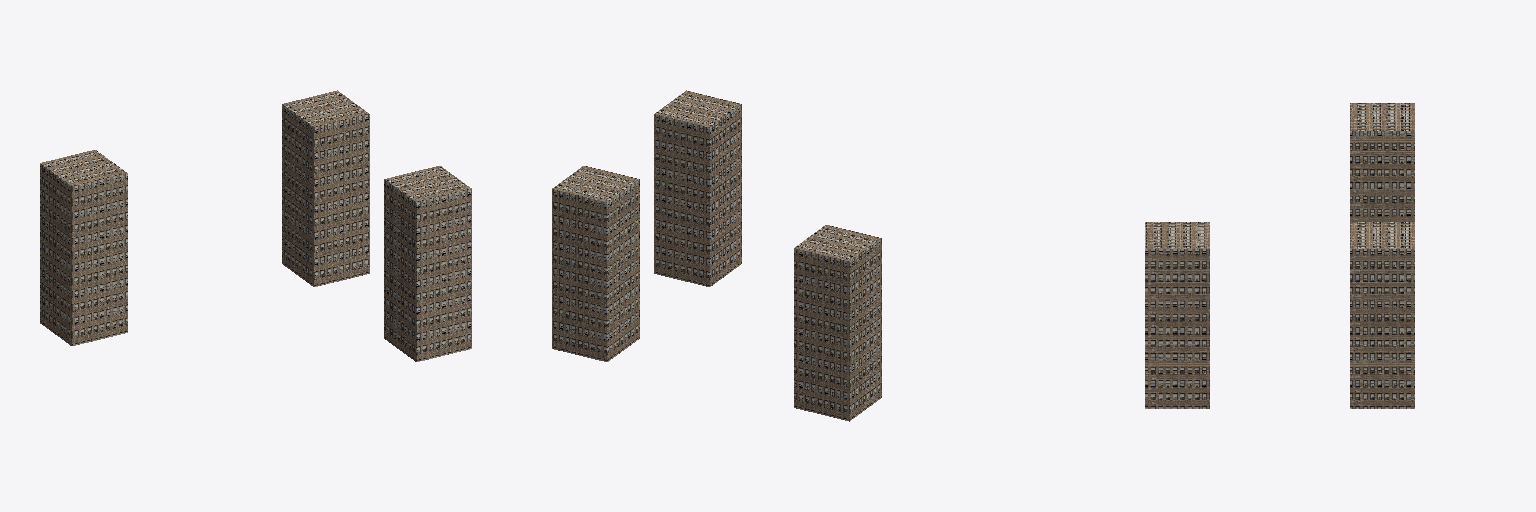
3 renders of one model, left to right at view 1: azimuth 30°, elevation 25°; view 2: azimuth 150°, elevation 25°; view 3: azimuth 270°, elevation 25°, orthographic.
Visible parts, largest first — view 1: Cube.001; view 2: Cube.001; view 3: Cube.001.
Part boxes in pixels (left/top/right/bottom): Cube.001: left=40, top=90, right=471, bottom=361; Cube.001: left=552, top=90, right=881, bottom=421; Cube.001: left=1145, top=103, right=1414, bottom=408.
Bounding box in the file's own units: 114 × 58.67 × 89.51.
Materials: 1 (1 with a texture image).